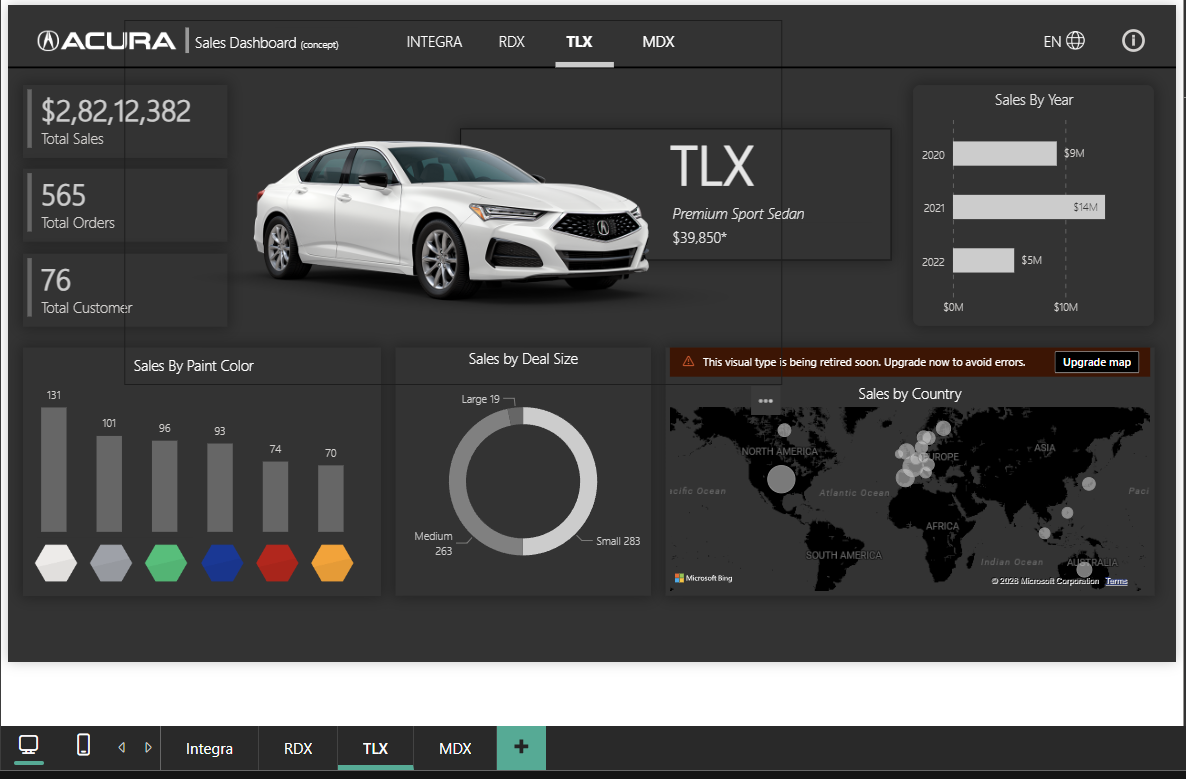

The dashboard page shown, as its layout file describes it:
{"tool":"powerbi","page":{"name":"TLX","canvas":[1280,720],"ordinal":2},"visuals":[{"type":"textbox","box":[427.1,22.7,80,32],"z":0,"group":"g1"},{"type":"textbox","box":[524.9,22.7,51.7,32],"z":0,"group":"g2"},{"type":"textbox","box":[599.5,22.7,51.7,32],"z":0,"group":"g3"},{"type":"textbox","box":[672,22.7,80,48],"z":0,"group":"g4"},{"type":"shape","box":[496,135.8,472,144],"z":0},{"type":"image","box":[16,22.7,184,32],"z":1000},{"type":"actionButton","box":[424,22.7,80,32],"z":1000,"group":"g1"},{"type":"actionButton","box":[522.7,22.7,56,32],"z":1000,"group":"g2"},{"type":"actionButton","box":[597.3,22.7,56,32],"z":1000,"group":"g3"},{"type":"actionButton","box":[672,22.7,72,32],"z":1000,"group":"g4"},{"type":"map","title":"Sales by Country","fields":{"Category":["Area.COUNTRY"],"Size":["Sales.Total Sales"]},"box":[720,376,536,272],"z":2000},{"type":"multiRowCard","title":"Key Metrics","fields":{"Values":["Sales.Total Sales"]},"box":[16,88,224,80],"z":3000},{"type":"multiRowCard","title":"Key Metrics","fields":{"Values":["Sales.Total Orders"]},"box":[16,180,224,80],"z":4000},{"type":"multiRowCard","title":"Key Metrics","fields":{"Values":["Sales.Total Customer"]},"box":[16,272,224,80],"z":5000},{"type":"multiRowCard","fields":{"Values":["Vehcile Model.Model Name"]},"box":[720,127.8,272,96],"z":6000},{"type":"multiRowCard","fields":{"Values":["Vehcile Model.Description"]},"box":[723,211.8,224,32],"z":7000},{"type":"multiRowCard","fields":{"Values":["Vehcile Model.Starting Price"]},"box":[723,237.8,224,32],"z":8000},{"type":"donutChart","title":"Sales by Deal Size","fields":{"Category":["Sales.DEALSIZE"],"Y":["CountNonNull(Sales.DEALSIZE)"]},"box":[424,376,280,272],"z":9000},{"type":"shape","box":[16,376,392,272],"z":10000},{"type":"image","box":[328,584,56,56],"z":11000},{"type":"image","box":[267.2,584,56,56],"z":12000},{"type":"image","box":[84.8,584,56,56],"z":13000},{"type":"image","box":[24,584,56,56],"z":14000},{"type":"image","box":[206.4,584,56,56],"z":15000},{"type":"image","box":[145.6,584,56,56],"z":16000},{"type":"clusteredColumnChart","title":"Sales By Paint  Color","fields":{"Category":["Sales.Ordered Color"],"Y":["Sales.Total Orders"]},"box":[32,384,344,200],"z":17000},{"type":"image","box":[128,16,720,400],"z":17500},{"type":"barChart","title":"Sales By Year","fields":{"Category":["Calender.Date.Variation.Date Hierarchy.Year"],"Y":["Sales.Total Sales"]},"box":[992,88,264,264],"z":18000},{"type":"group","id":"g1","title":"Group 1","box":[424,22.7,83.1,32],"z":19000},{"type":"group","id":"g2","title":"Group 1","box":[522.7,22.7,56,32],"z":20000},{"type":"group","id":"g3","title":"Group 1","box":[597.3,22.7,56,32],"z":21000},{"type":"group","id":"g4","title":"Group 1","box":[672,22.7,80,48],"z":22000},{"type":"shape","box":[0,64,1280,8],"z":23000},{"type":"textbox","box":[200,24,184,32],"z":24000},{"type":"shape","box":[165,24,64,28],"z":25000},{"type":"shape","box":[600,53,64,24],"z":26000},{"type":"image","box":[1152,21,36,36],"z":28000},{"type":"textbox","box":[1130.3,23,39,37],"z":29000},{"type":"actionButton","box":[1217,22,34,34],"z":35000}]}

Visuals, with their boxes on the page's 1280x720 design canvas (x1, y1, x2, y2). These are canvas units, not pixel positions in the 1186x779 screenshot, which may show the page scaled, cropped or inside an application window:
textbox: (427, 23, 507, 55)
textbox: (525, 23, 577, 55)
textbox: (600, 23, 651, 55)
textbox: (672, 23, 752, 71)
shape: (496, 136, 968, 280)
image: (16, 23, 200, 55)
actionButton: (424, 23, 504, 55)
actionButton: (523, 23, 579, 55)
actionButton: (597, 23, 653, 55)
actionButton: (672, 23, 744, 55)
"Sales by Country" map: (720, 376, 1256, 648)
"Key Metrics" multiRowCard: (16, 88, 240, 168)
"Key Metrics" multiRowCard: (16, 180, 240, 260)
"Key Metrics" multiRowCard: (16, 272, 240, 352)
multiRowCard - Vehcile Model.Model Name: (720, 128, 992, 224)
multiRowCard - Vehcile Model.Description: (723, 212, 947, 244)
multiRowCard - Vehcile Model.Starting Price: (723, 238, 947, 270)
"Sales by Deal Size" donutChart: (424, 376, 704, 648)
shape: (16, 376, 408, 648)
image: (328, 584, 384, 640)
image: (267, 584, 323, 640)
image: (85, 584, 141, 640)
image: (24, 584, 80, 640)
image: (206, 584, 262, 640)
image: (146, 584, 202, 640)
"Sales By Paint  Color" clusteredColumnChart: (32, 384, 376, 584)
image: (128, 16, 848, 416)
"Sales By Year" barChart: (992, 88, 1256, 352)
"Group 1" group: (424, 23, 507, 55)
"Group 1" group: (523, 23, 579, 55)
"Group 1" group: (597, 23, 653, 55)
"Group 1" group: (672, 23, 752, 71)
shape: (0, 64, 1280, 72)
textbox: (200, 24, 384, 56)
shape: (165, 24, 229, 52)
shape: (600, 53, 664, 77)
image: (1152, 21, 1188, 57)
textbox: (1130, 23, 1169, 60)
actionButton: (1217, 22, 1251, 56)
